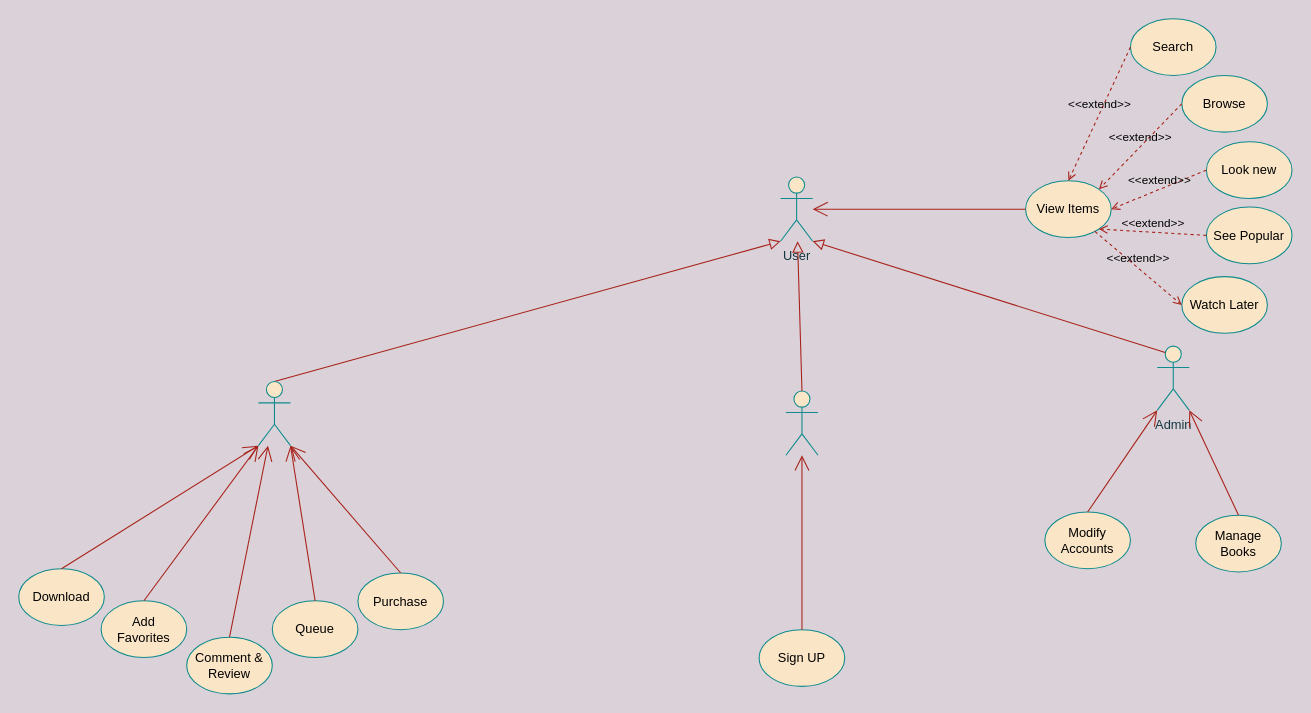
This 1311x713 diagram has some shape labels left out. Here are the shapes that lost their labels. From the top down, the box of each, then its label:
(257, 380, 291, 446): Reregistered User
(785, 390, 818, 455): Guest
